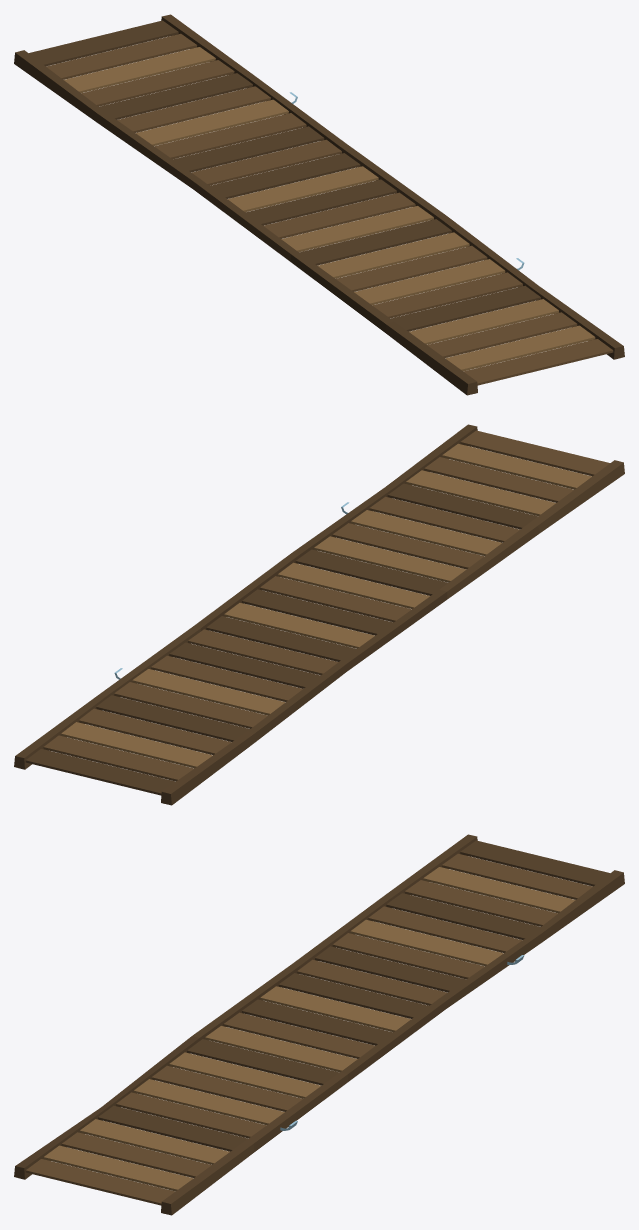
The model's file is bridgeNoPipeOrRailings.glb.
3 views of the same model, one above another, from view 1: azimuth 30°, elevation 25°; view 2: azimuth 150°, elevation 25°; view 3: azimuth 330°, elevation 25° (orthographic).
Visible parts, largest first — view 1: bridgeOnly; view 2: bridgeOnly; view 3: bridgeOnly.
Part boxes in pixels (box(x1,y1,x2,y2)): bridgeOnly: box(14, 14, 624, 395); bridgeOnly: box(14, 424, 624, 805); bridgeOnly: box(14, 834, 624, 1215).
Size of what is drawn, in the model's own units: 2.13 by 0.1436 by 10.
Materials: 1 (1 with a texture image).
